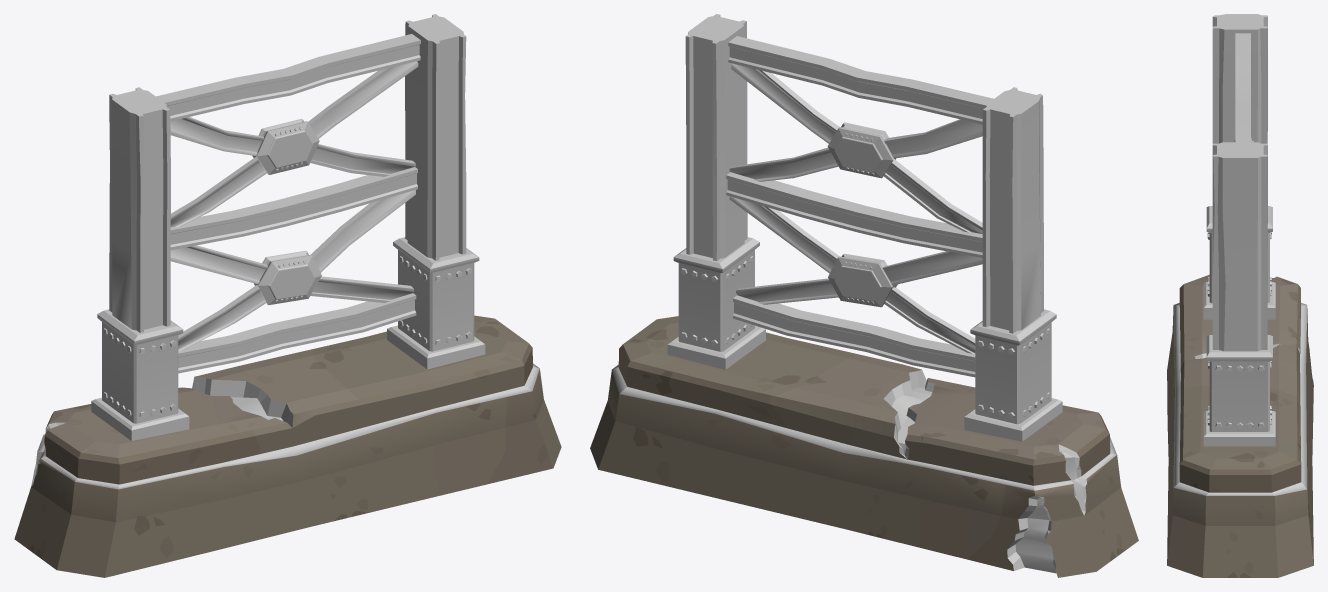
The model's file is SM_Bld_Bridge_Supports_02.fbx.
The picture shows the model from 3 angles, left to right: view 1: azimuth 30°, elevation 25°; view 2: azimuth 150°, elevation 25°; view 3: azimuth 270°, elevation 25°; orthographic projection. The views are drawn at different scales.
Parts seen in each view (by area): view 1: SM_Bld_Bridge_Supports_02; view 2: SM_Bld_Bridge_Supports_02; view 3: SM_Bld_Bridge_Supports_02.
Boxes of the visible parts, x1,y1,x2,y2 form: SM_Bld_Bridge_Supports_02: (14, 14, 561, 577); SM_Bld_Bridge_Supports_02: (590, 14, 1138, 577); SM_Bld_Bridge_Supports_02: (1167, 14, 1313, 577).
Bounding box in the file's own units: 3054 × 2475 × 862.
